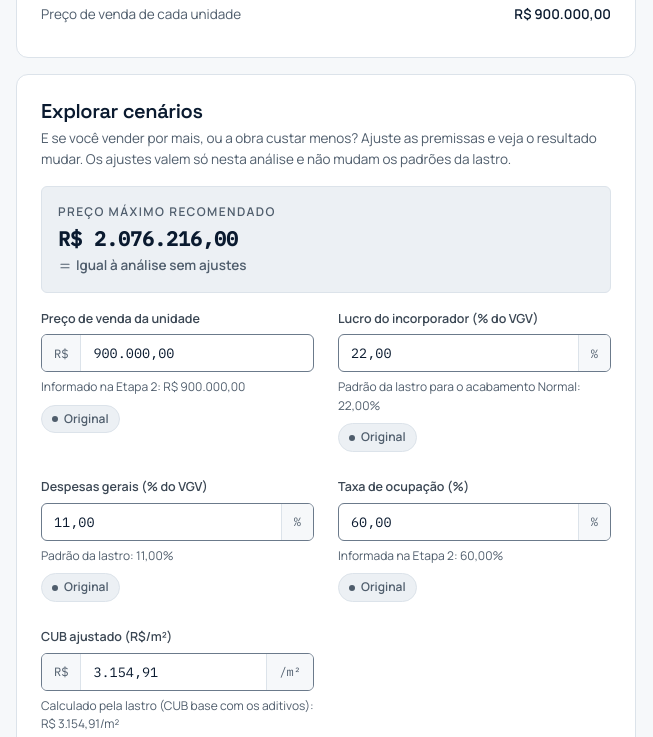
it: painel de premissas (F17) › "restaurar tudo" volta todas as premissas ao original
(page scrolled)
Replace the text in the field labelled "Lucro do incorporador (% do VGV)" with "20". click: (458, 353)
box: left=339, top=335, right=578, bottom=371
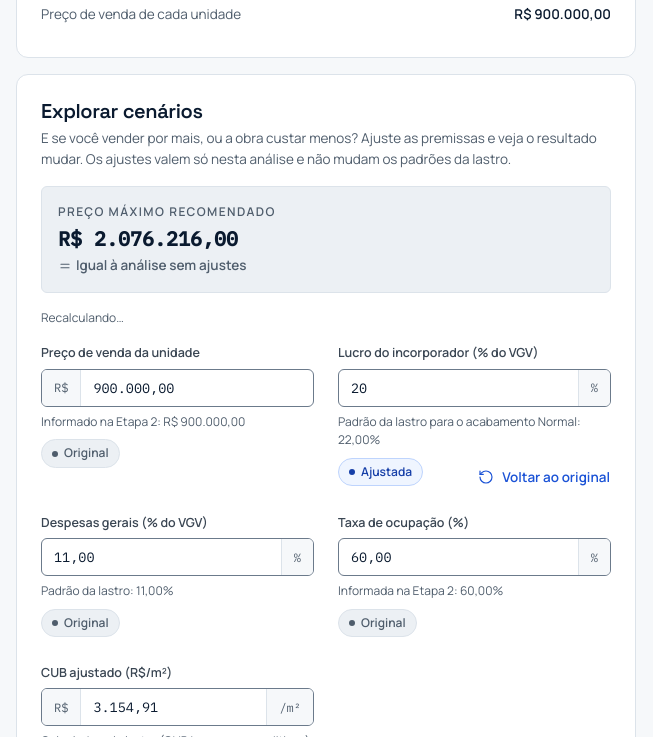
Replace the text in the field labelled "CUB ajustado (R$/m²)" with "3.000,00". click: (174, 707)
box: left=81, top=689, right=266, bottom=725
(page scrolled)
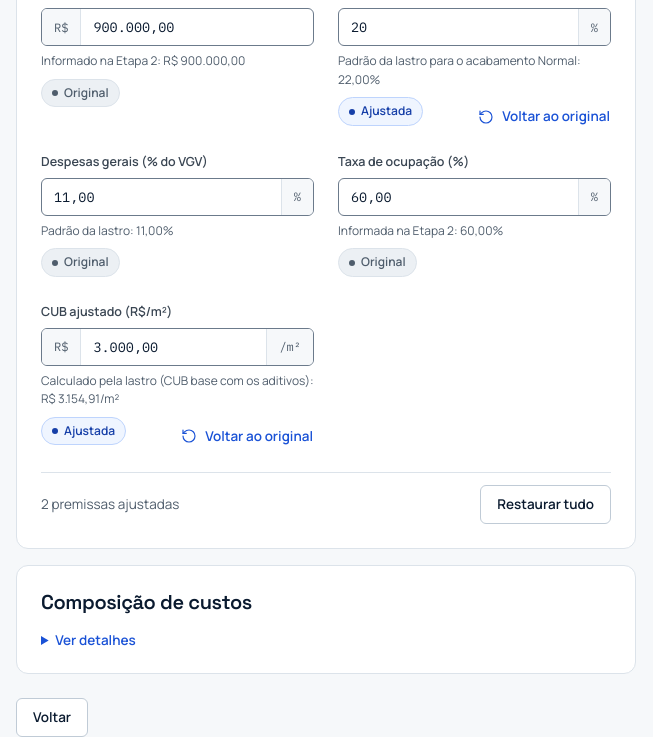
Click the button "Restaurar tudo". click: (546, 504)
box: left=480, top=485, right=611, bottom=524
(page scrolled)
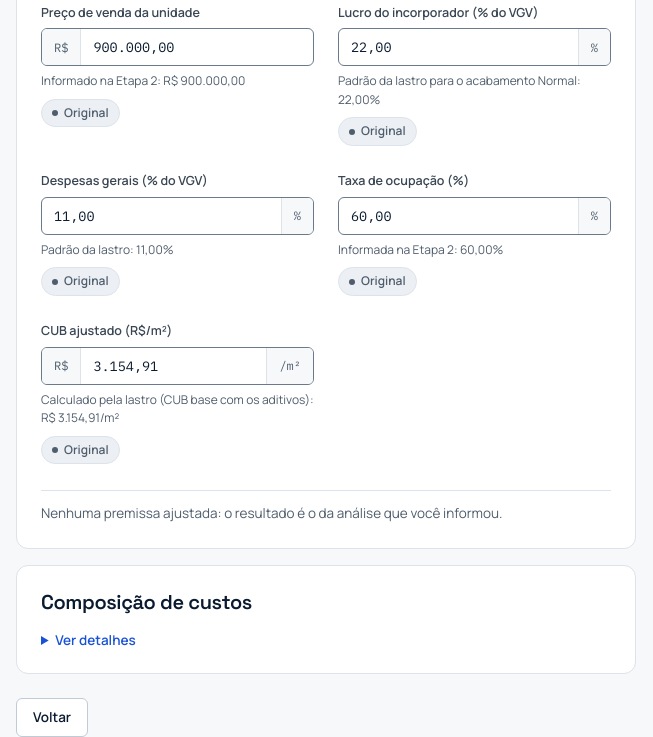
Expected: the text with test id "cenario-quantidade" reads "Nenhuma premissa ajustada: o resultado é o da análise que você informou.", left=41, top=504, right=502, bottom=522
